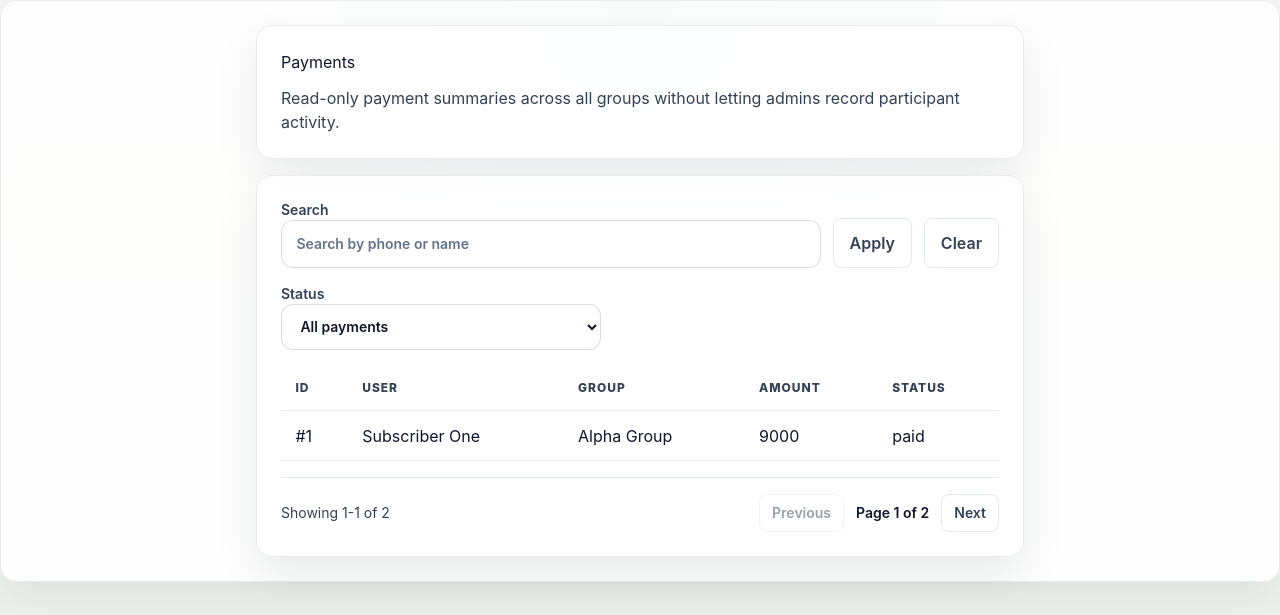
Test: AdminPaymentsPage updates the visible slice when the next page control is used
This screenshot has width=1280, height=615.
Check: the text "Subscriber One" is shown, box [348, 410, 564, 461]
Click the button with aria-label "next page" at (970, 513), box [941, 494, 999, 532]
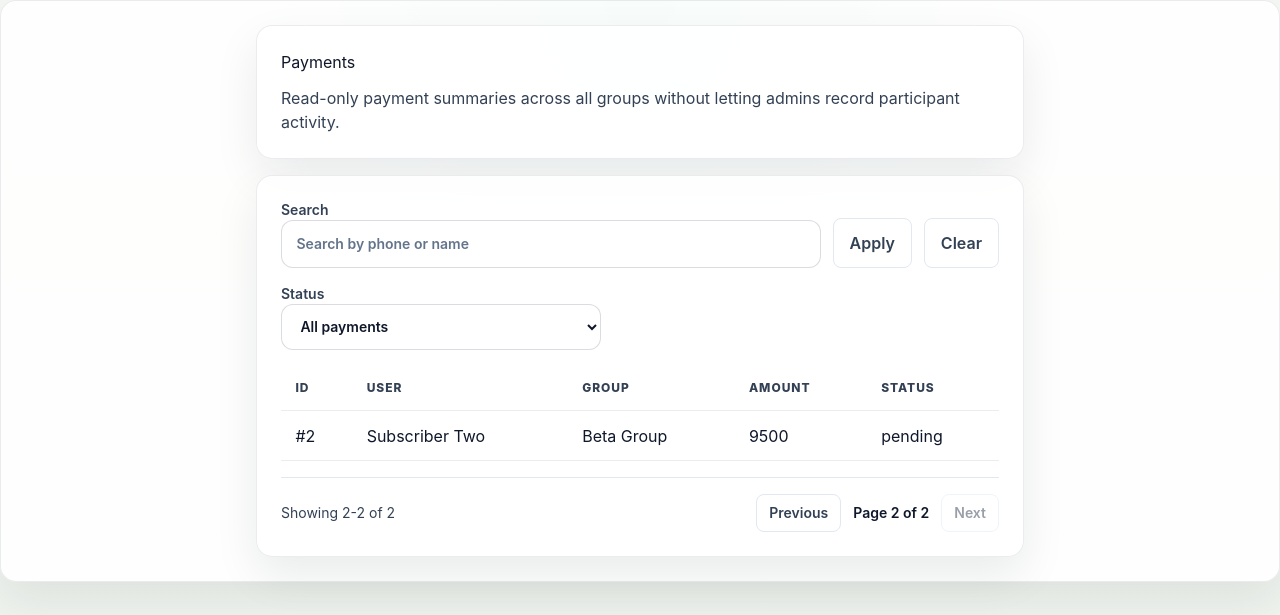
Check: the text "Subscriber Two" is shown, box [352, 410, 568, 461]
Check: the text "Subscriber One" is gone
